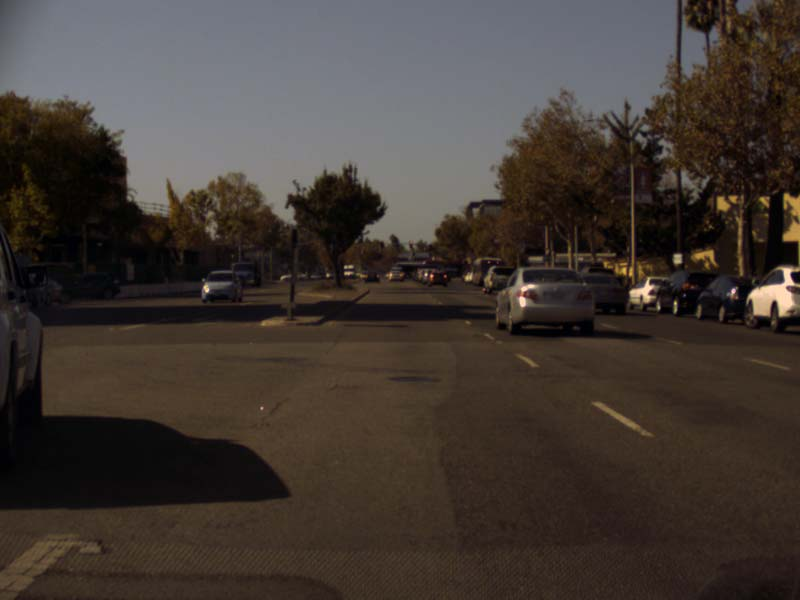Red: (409, 240, 412, 248)
